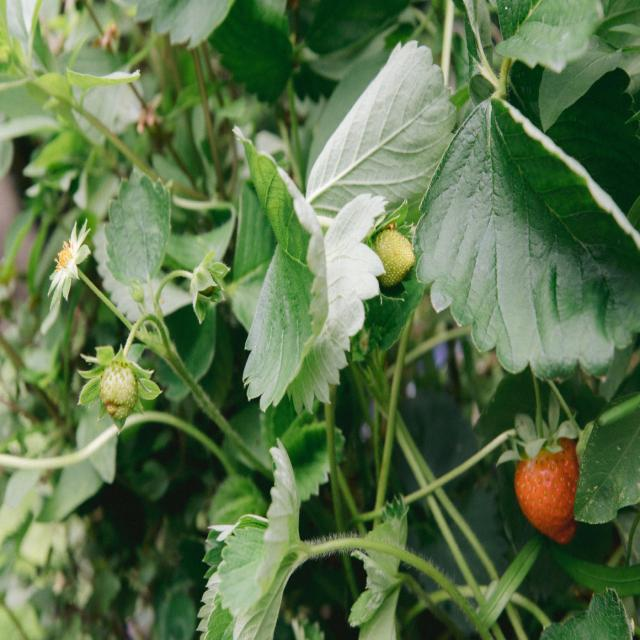Ripe Strawberry: (507, 440, 591, 548)
